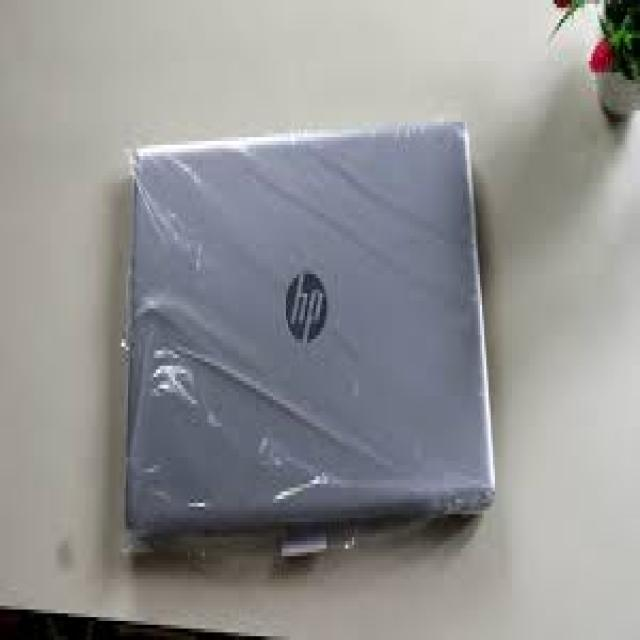laptop: (119, 118, 495, 560)
